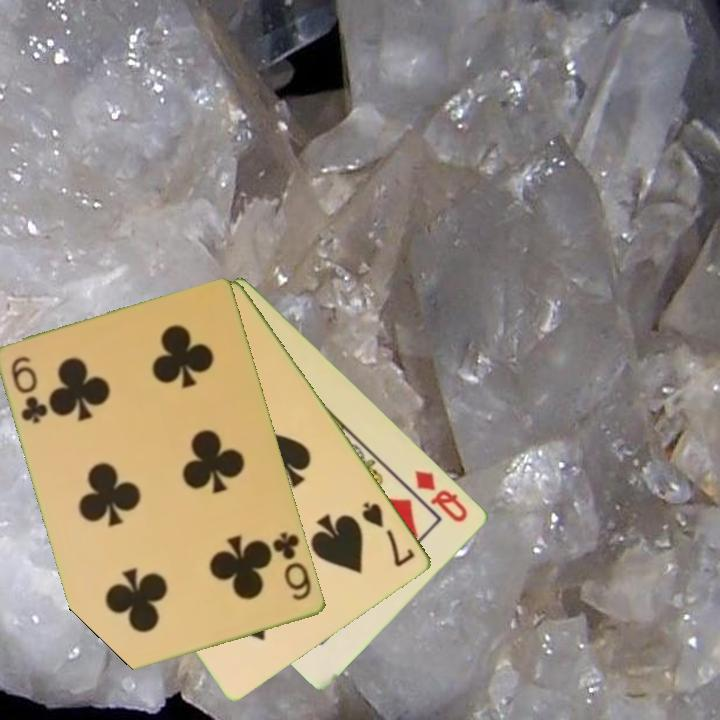6c: (269, 528, 315, 604), (8, 353, 51, 427)
7s: (358, 498, 419, 570)
Qd: (411, 466, 472, 526)
